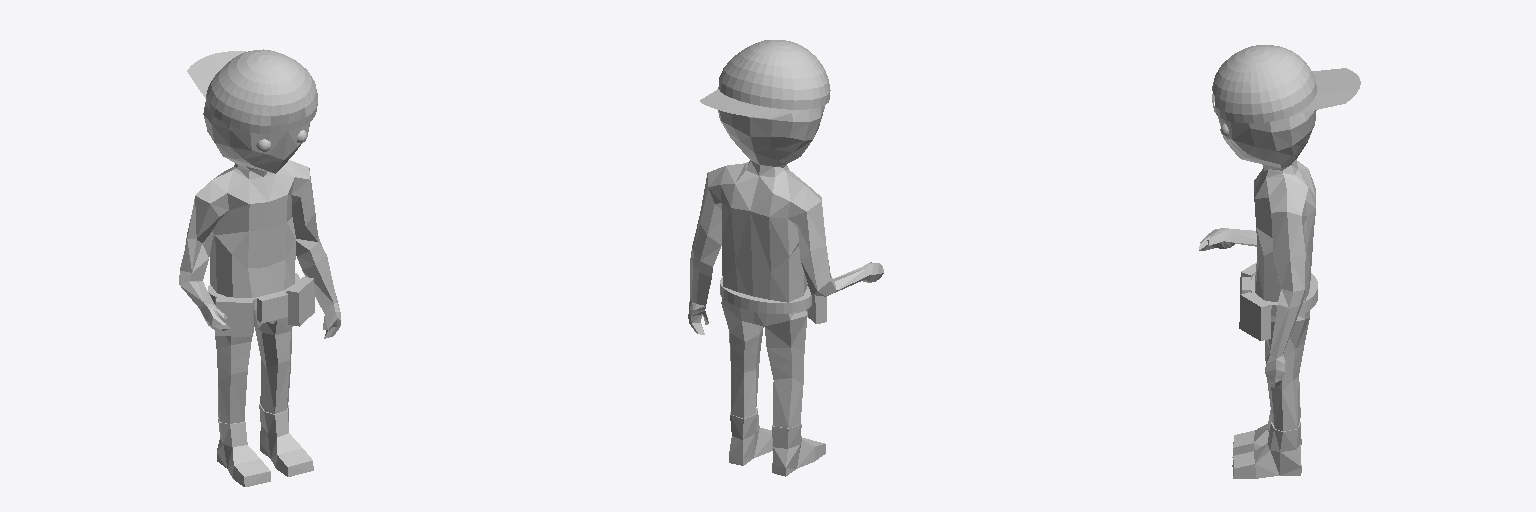
The model's file is Main_Character_Paint_3.obj.
3 renders of one model, left to right at view 1: azimuth 30°, elevation 25°; view 2: azimuth 150°, elevation 25°; view 3: azimuth 270°, elevation 25°, orthographic.
Parts seen in each view (by area): view 1: Main_Character_Test.003_Main_Character_Test.004; view 2: Main_Character_Test.003_Main_Character_Test.004; view 3: Main_Character_Test.003_Main_Character_Test.004.
Boxes of the visible parts, <box> form: Main_Character_Test.003_Main_Character_Test.004: <box>179,49,340,486</box>; Main_Character_Test.003_Main_Character_Test.004: <box>688,40,883,476</box>; Main_Character_Test.003_Main_Character_Test.004: <box>1199,45,1360,478</box>.
Size of the model in its own units: 1.63 by 3.96 by 1.41.